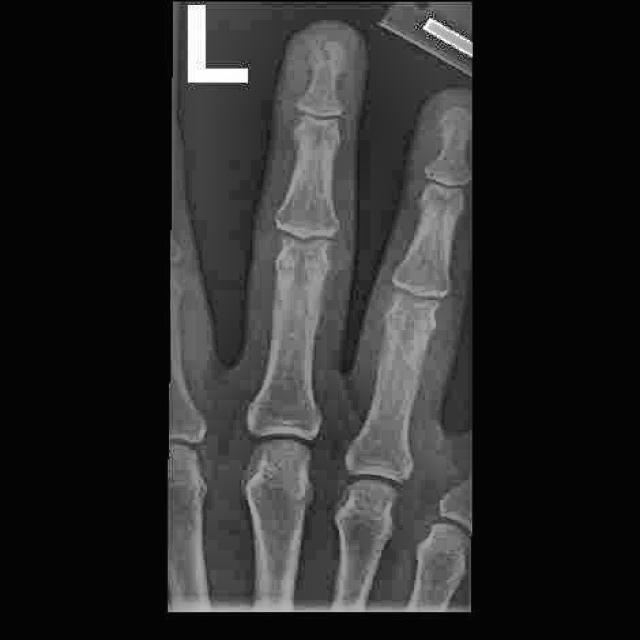fingers positive: (301, 39, 353, 80)
